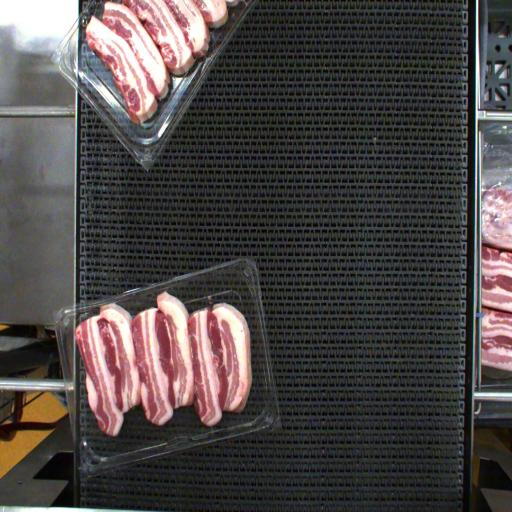packaging-error: (92, 290, 118, 311)
